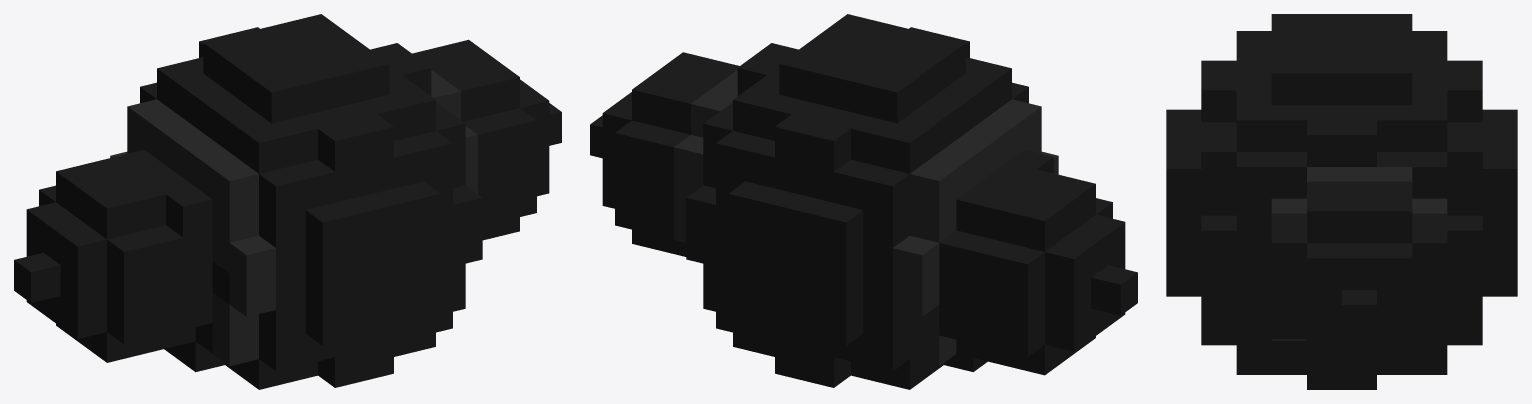
The model's file is baby-1.obj.
3 renders of one model, left to right at view 1: azimuth 30°, elevation 25°; view 2: azimuth 150°, elevation 25°; view 3: azimuth 270°, elevation 25°, orthographic. The views are drawn at different scales.
Bounding box in the file's own units: 1.8 × 0.9 × 1.
1 material, 1 textured.
